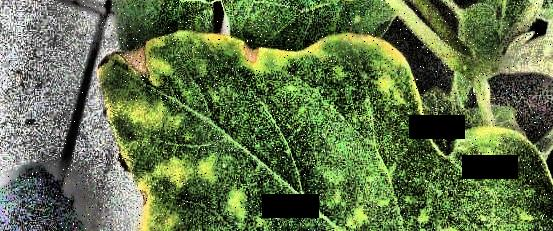Non-critical Stress: (0, 0, 553, 231)
